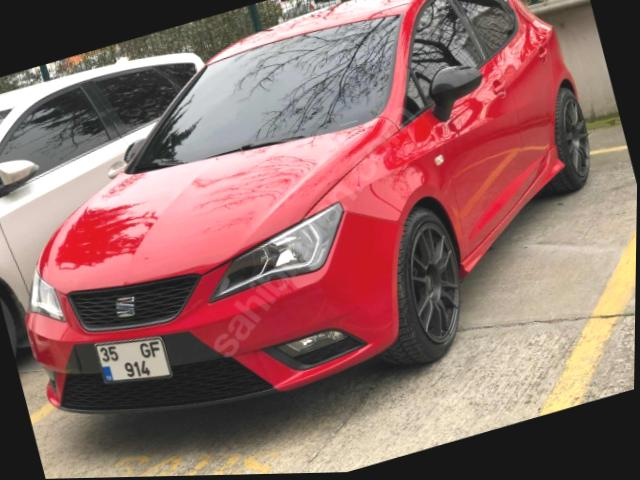plaka: (95, 337, 171, 381)
